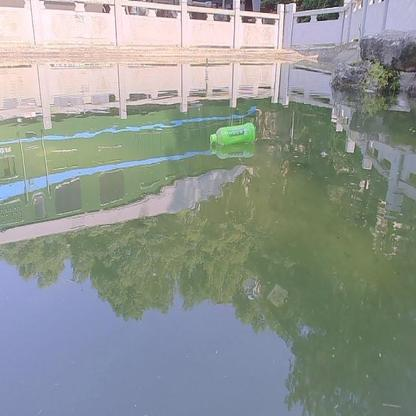plastic bottle: (209, 123, 256, 144)
